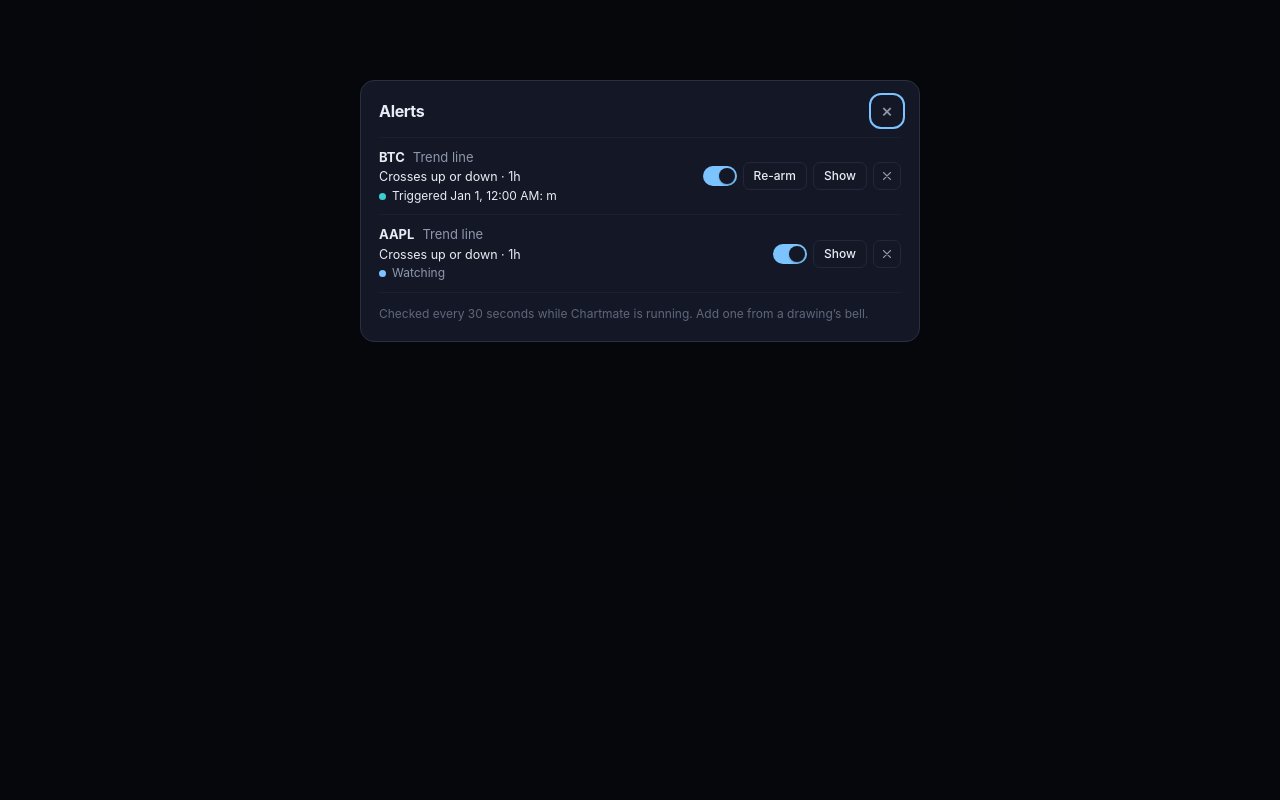
AlertsDialog › switches, re-arms, removes and shows; the change goes through the chart when it shows the drawing
Later steps or results of the test are not shown.
Click the switch named "BTC Trend line alert".
click(720, 176)  # box [702,166,736,186]
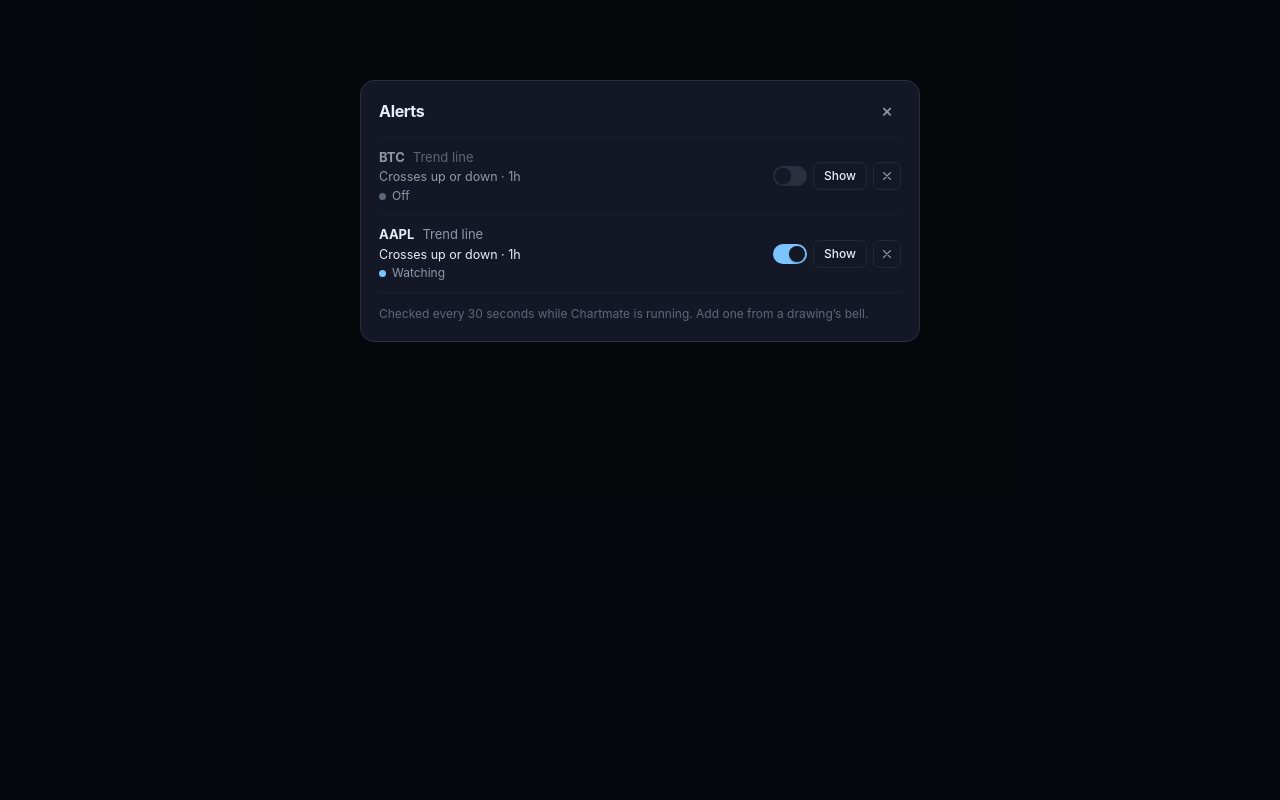
Expected: the switch named "BTC Trend line alert" is not checked, [773,166,807,186]
Click the switch named "AAPL Trend line alert".
click(790, 254)  # box [773,244,807,264]
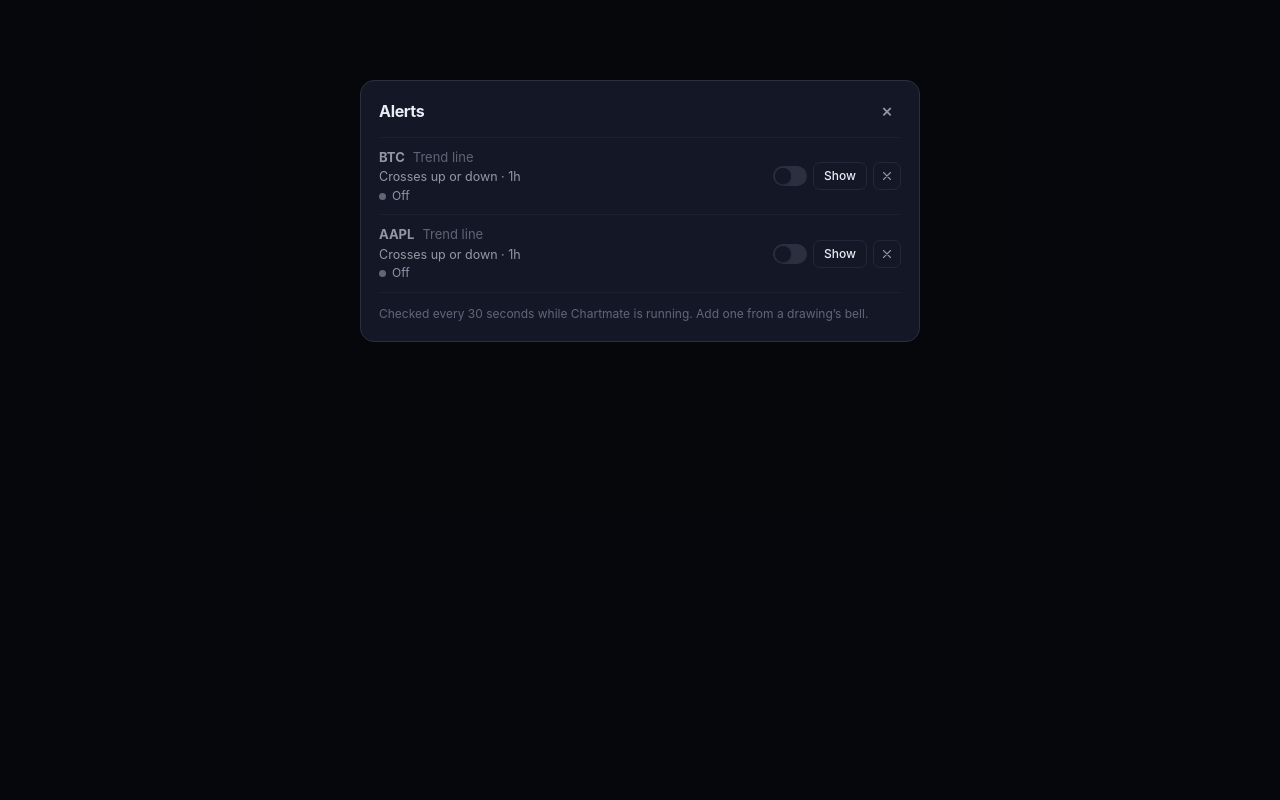
Click the button named "Remove AAPL Trend line alert".
click(887, 254)  # box [873,240,901,268]
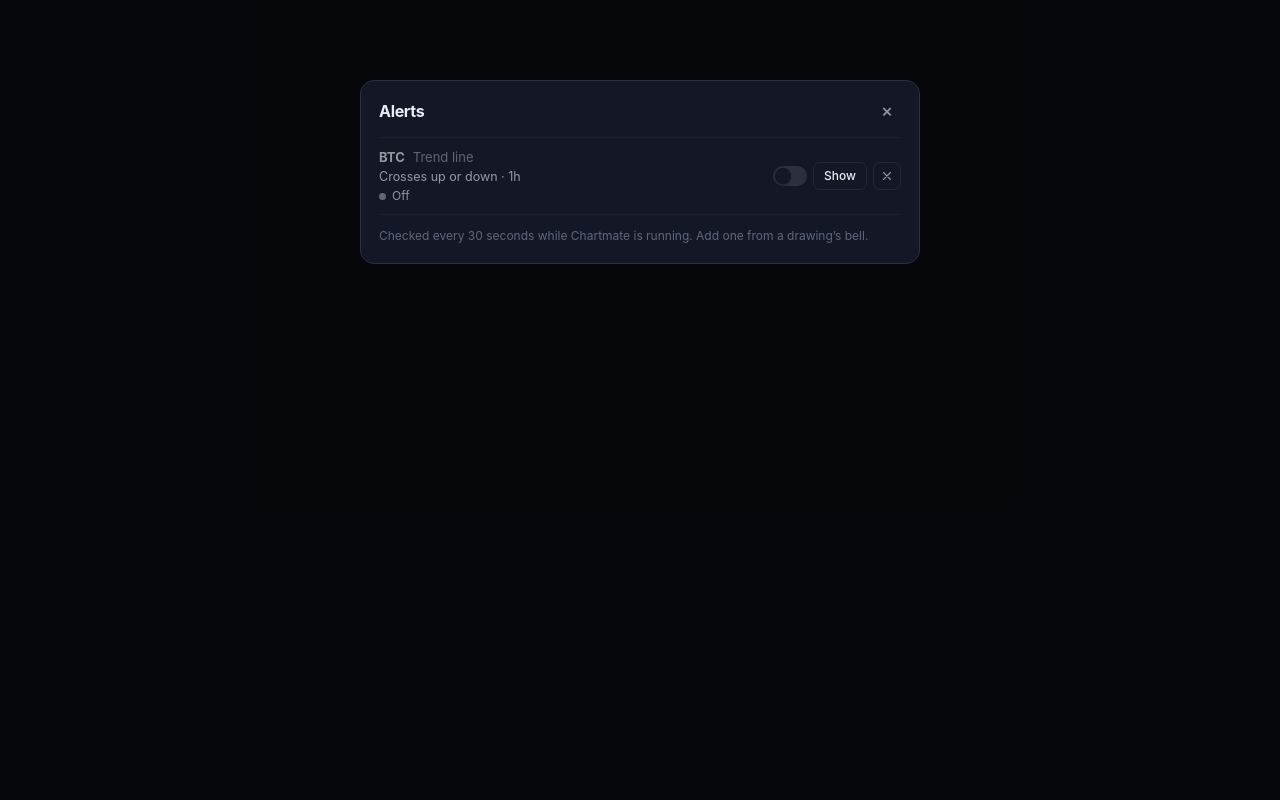
Expected: the text "AAPL" is gone
